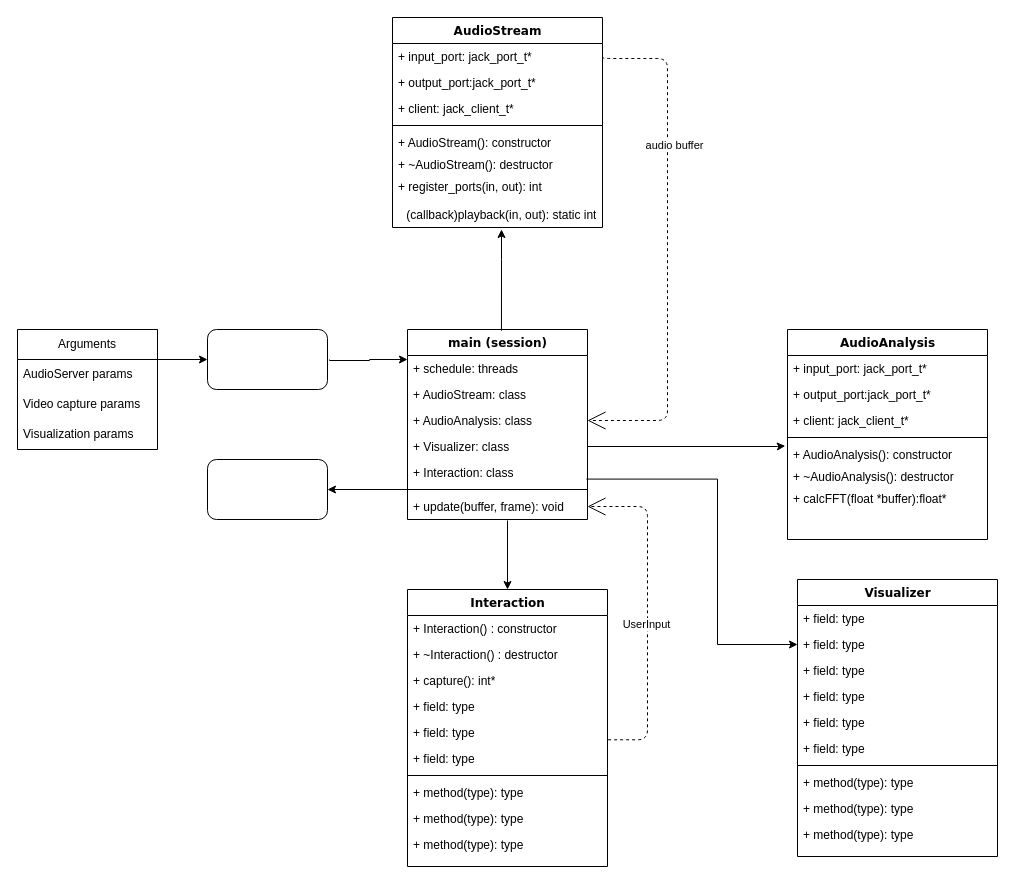
Image size: 1015x884. Some labels were removed from this diagram. The shapes that lost their labels are listed below. From the top down, each one's centre as x and y in pixels, then its label:
At point (267, 359): "start.sh".
At point (267, 489): "stop.sh".
